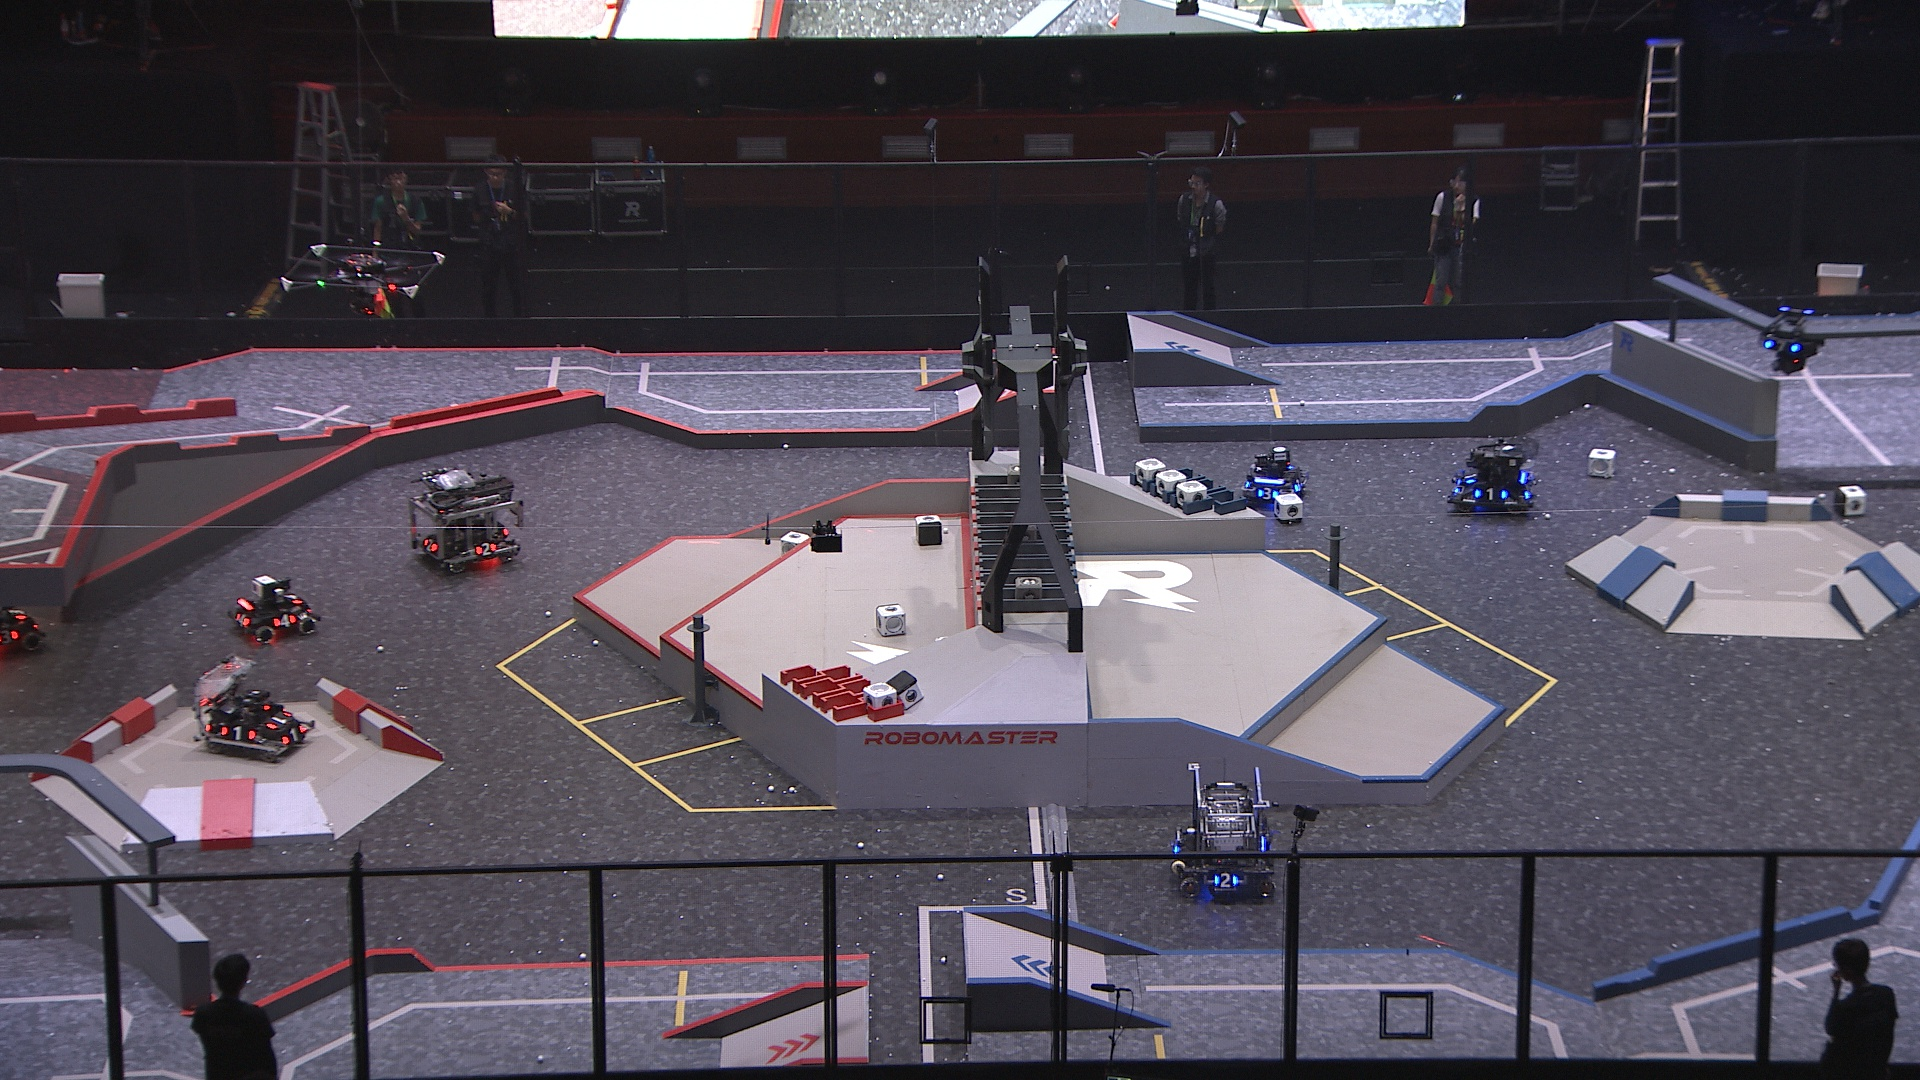armor: (1760, 335, 1803, 360), (218, 721, 258, 746), (261, 705, 295, 732), (280, 723, 309, 749), (1472, 484, 1510, 504), (269, 609, 301, 633), (1209, 870, 1240, 891), (472, 541, 500, 560), (231, 612, 252, 632), (1254, 484, 1280, 500), (418, 535, 438, 555), (7, 603, 26, 622), (1461, 465, 1480, 484), (284, 589, 302, 607), (1291, 475, 1304, 493)
car: (1168, 760, 1280, 902), (404, 462, 527, 578), (193, 651, 319, 760), (1443, 433, 1538, 516), (225, 572, 320, 647), (1236, 443, 1307, 509)
watcher: (1753, 291, 1830, 377)
